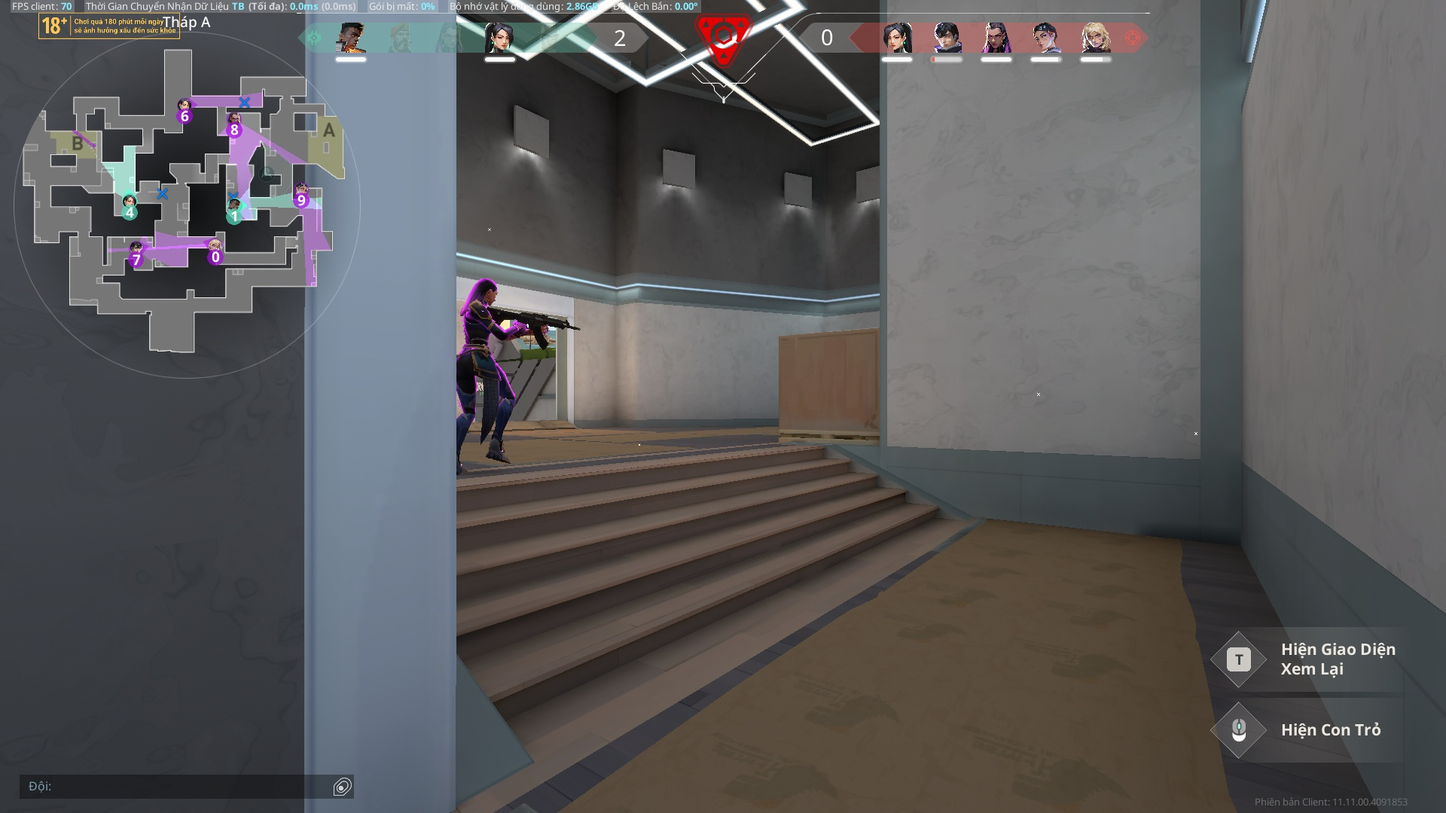body: (462, 301, 496, 346)
head: (470, 277, 496, 304)
